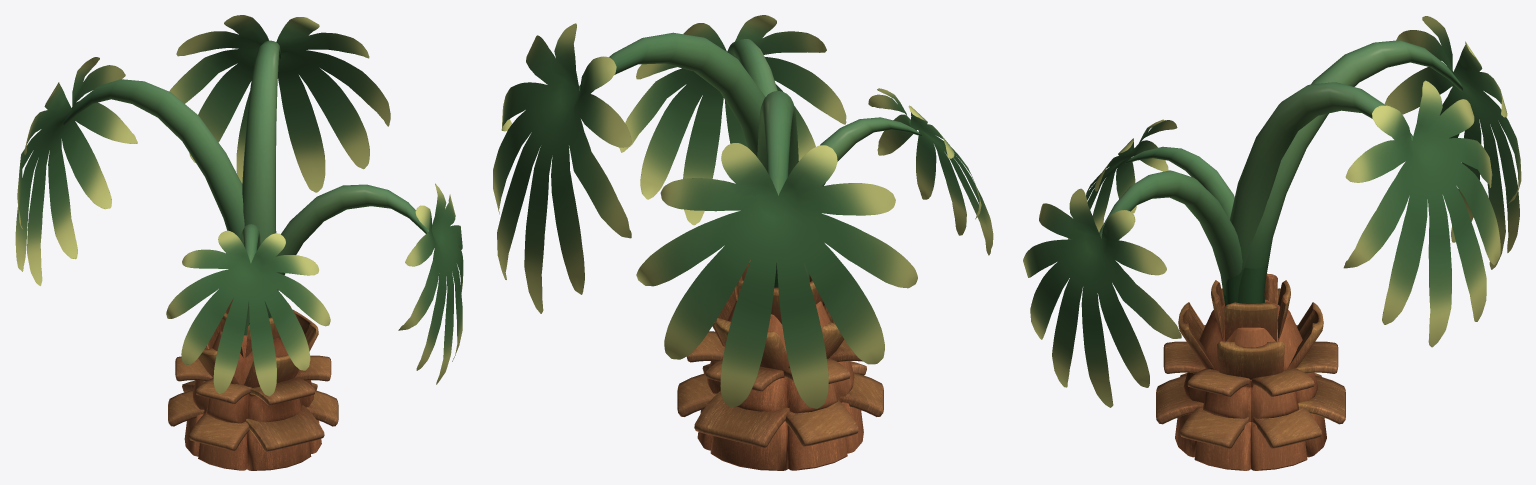
File: BismarckPalm.fbx
3 renders of one model, left to right at view 1: azimuth 30°, elevation 25°; view 2: azimuth 150°, elevation 25°; view 3: azimuth 270°, elevation 25°, orthographic. The views are drawn at different scales.
Parts seen in each view (by area): view 1: Object001, BismarchPalm_6_low003, Object004, Object003, BismarckPalm_1_low, Object002, BismarchPalm_4_low002, BismarchPalm_5_low, BismarchPalm_3_low002; view 2: Object003, Object001, Object002, BismarchPalm_6_low003, BismarchPalm_4_low002, BismarckPalm_1_low, Object004, BismarchPalm_5_low, BismarchPalm_3_low002, BismarchPalm_2_low001; view 3: Object001, BismarchPalm_6_low003, Object002, BismarckPalm_1_low, Object003, BismarchPalm_4_low002, BismarchPalm_5_low, BismarchPalm_3_low002, BismarchPalm_2_low001, Object004.
Part boxes in pixels (box(x1,y1,x2,y2)): Object001: box(169, 15, 390, 192); BismarchPalm_6_low003: box(63, 40, 428, 335); Object004: box(166, 230, 330, 396); Object003: box(15, 57, 137, 285); BismarckPalm_1_low: box(184, 331, 321, 470); Object002: box(398, 183, 463, 384); BismarchPalm_4_low002: box(168, 380, 338, 451); BismarchPalm_5_low: box(175, 347, 331, 405); BismarchPalm_3_low002: box(198, 309, 318, 387); Object003: box(636, 143, 917, 408); Object001: box(493, 23, 631, 313); Object002: box(619, 15, 846, 225); BismarchPalm_6_low003: box(579, 32, 922, 287); BismarchPalm_4_low002: box(677, 361, 883, 447); BismarckPalm_1_low: box(697, 300, 863, 470); Object004: box(868, 88, 993, 255); BismarchPalm_5_low: box(686, 331, 862, 391); BismarchPalm_3_low002: box(712, 289, 844, 370); BismarchPalm_2_low001: box(734, 259, 822, 323); Object001: box(1343, 80, 1500, 347); BismarchPalm_6_low003: box(1099, 40, 1462, 305); Object002: box(1023, 188, 1181, 407); BismarckPalm_1_low: box(1175, 299, 1326, 470); Object003: box(1384, 16, 1521, 269); BismarchPalm_4_low002: box(1156, 373, 1345, 448); BismarchPalm_5_low: box(1163, 325, 1338, 396); BismarchPalm_3_low002: box(1178, 288, 1323, 379); BismarchPalm_2_low001: box(1211, 273, 1290, 341); Object004: box(1068, 119, 1177, 239).
Bounding box in the file's own units: 3.34 × 3.2 × 3.66.
